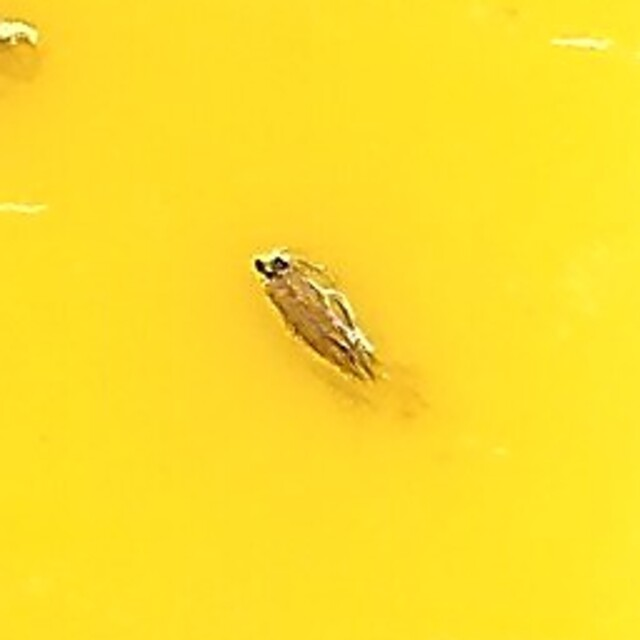Trichoptera: (250, 247, 390, 393)
